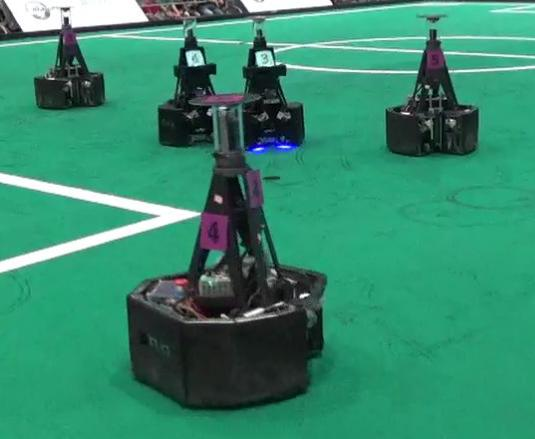robot: (125, 100, 333, 410), (381, 8, 482, 158), (154, 11, 245, 150), (228, 13, 310, 154), (27, 5, 109, 110)
